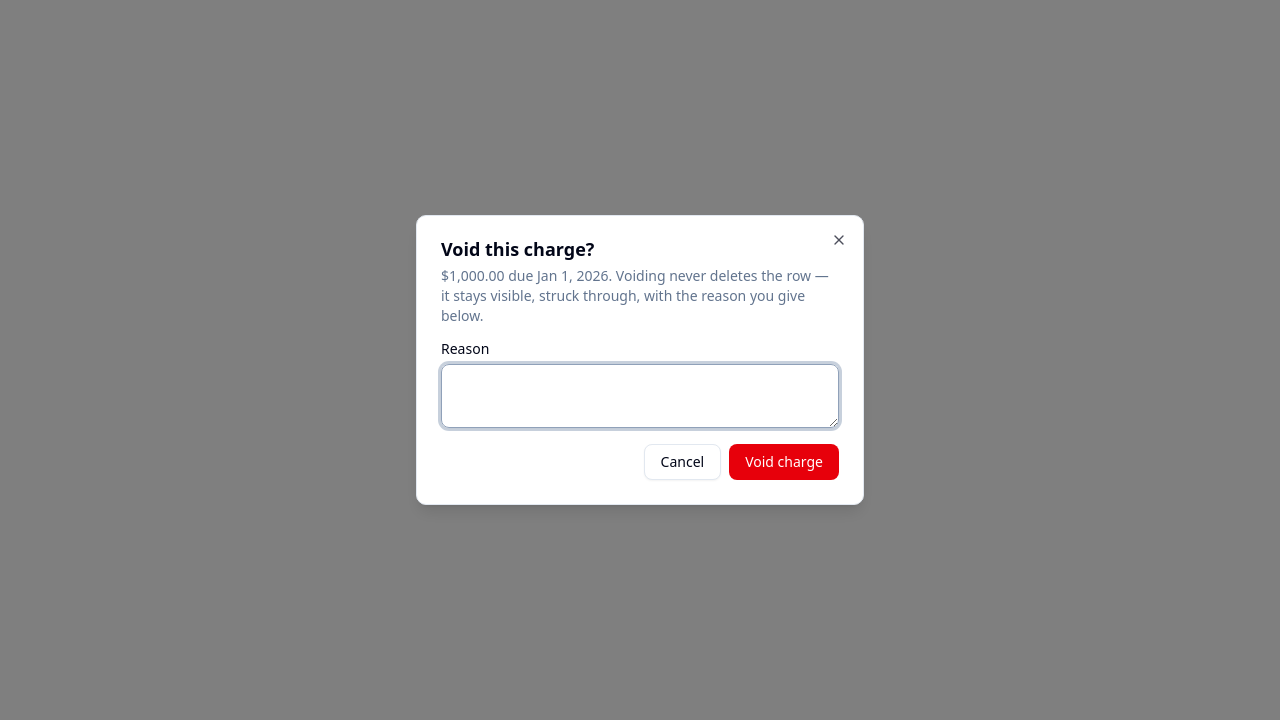
Test: VoidChargeDialog — the mandatory, >=10 character reason › refuses to submit a reason shorter than 10 characters, with the contract's own message
The image size is (1280, 720).
Type "too short" into the text box labelled "Reason".
click(640, 396); type("too short")  # box [441,364,839,428]
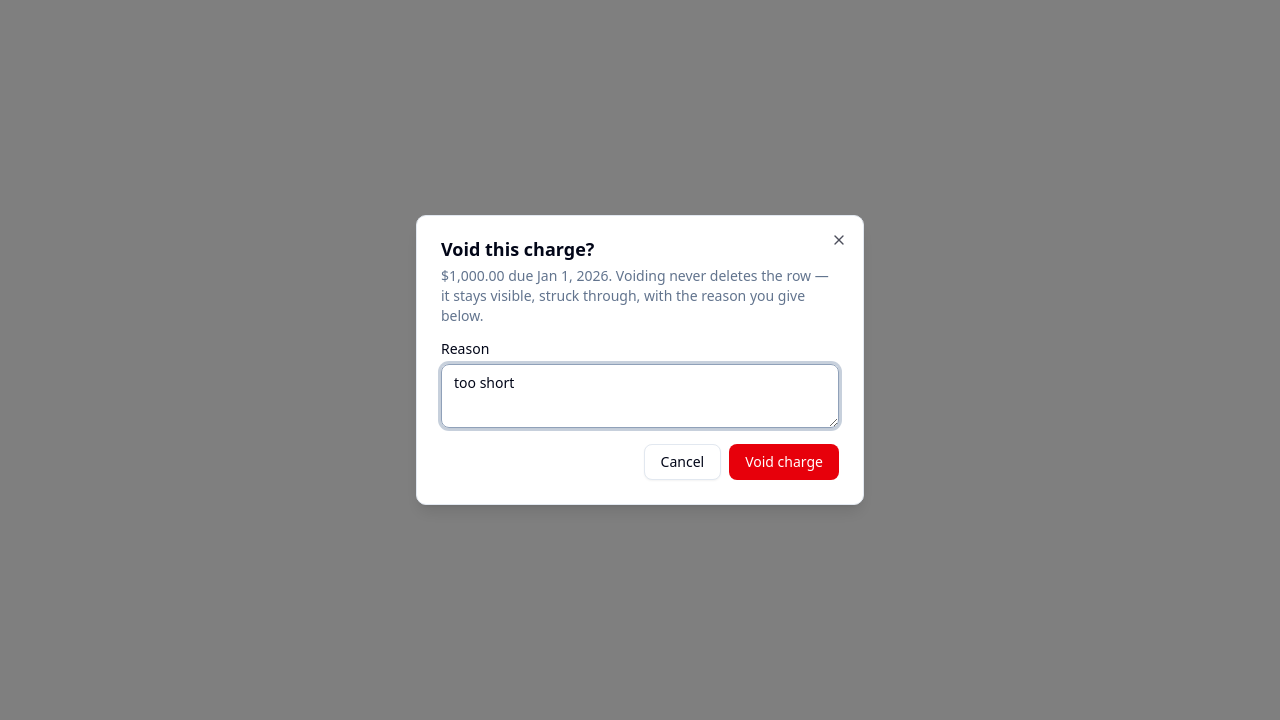
Click the button "Void charge".
click(784, 462)  # box [729,444,839,480]
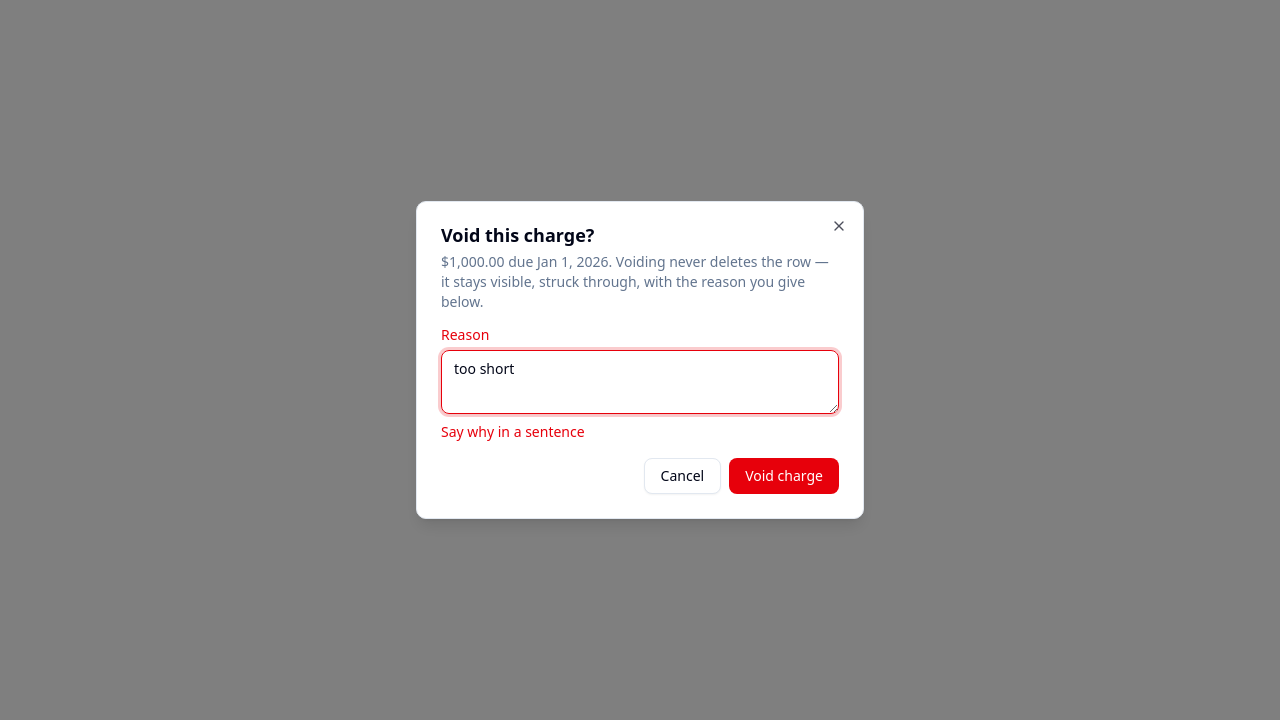
Now the text "Say why in a sentence" is shown, box [441,422,585,441]
